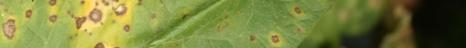Tomato Septoria leaf spot: (0, 0, 397, 48)
